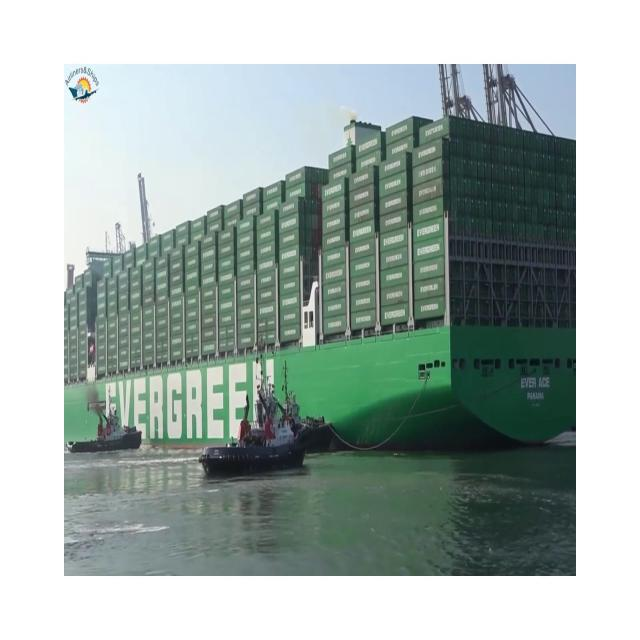OCR: (102, 366, 290, 449), (517, 368, 558, 417)
